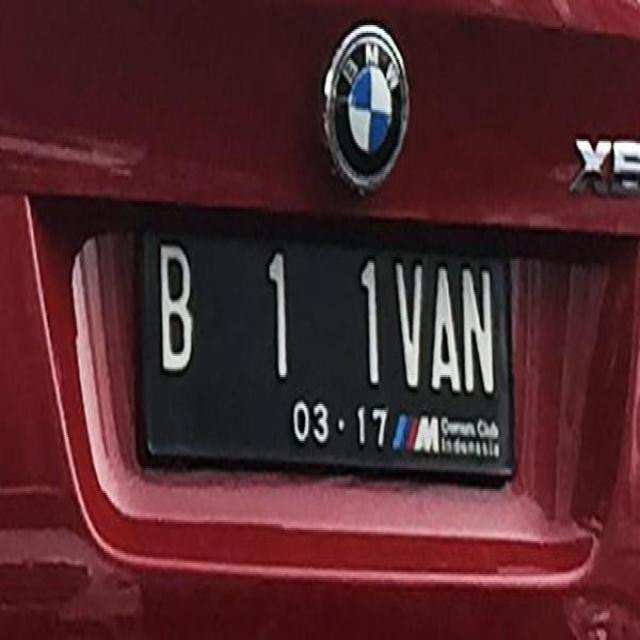plate: (140, 218, 515, 486)
